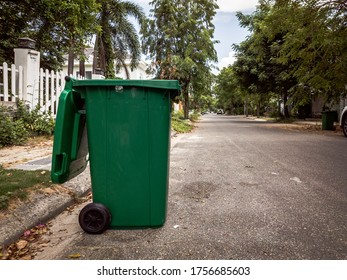TrashBin: (47, 71, 191, 244)
Tree: (226, 1, 340, 126)
